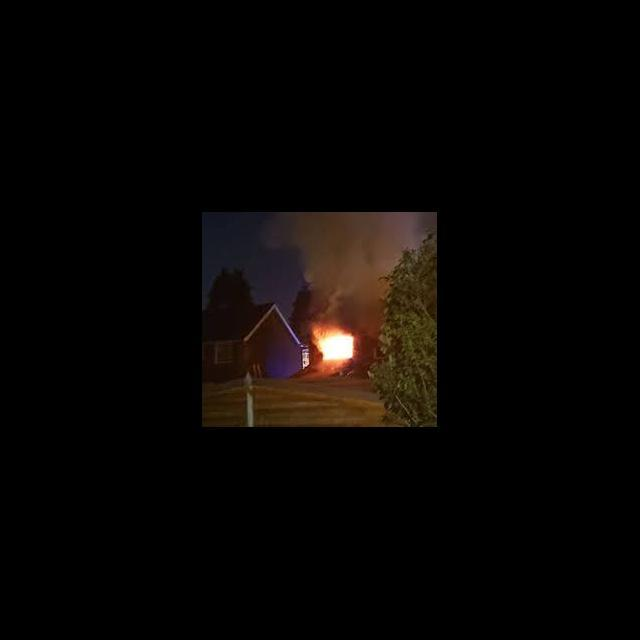Fire: (314, 330, 358, 364)
Smoke: (266, 213, 423, 325)
